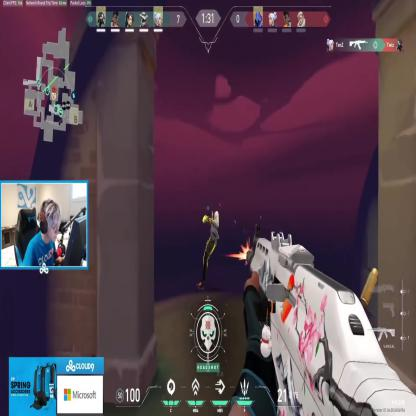enemy: (196, 195, 219, 289)
